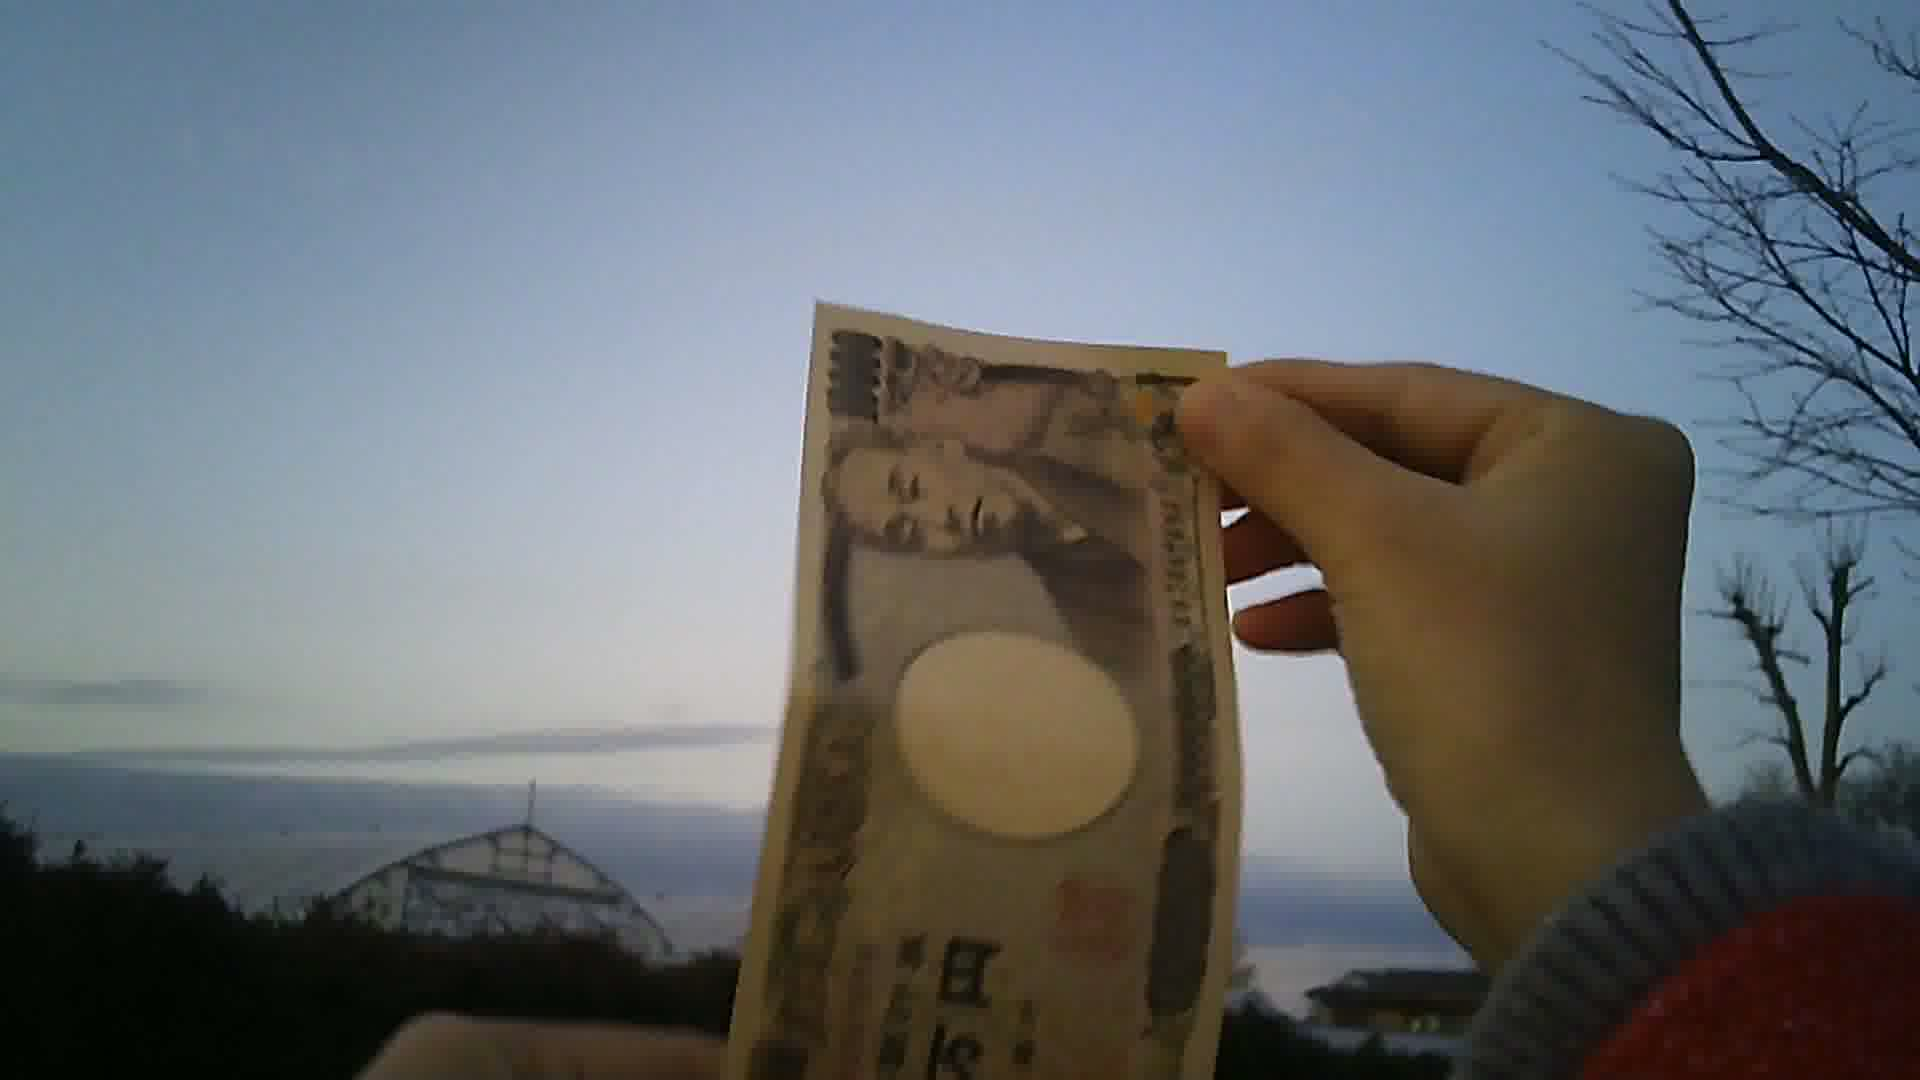10,000 Yen: (723, 280, 1265, 1077)
